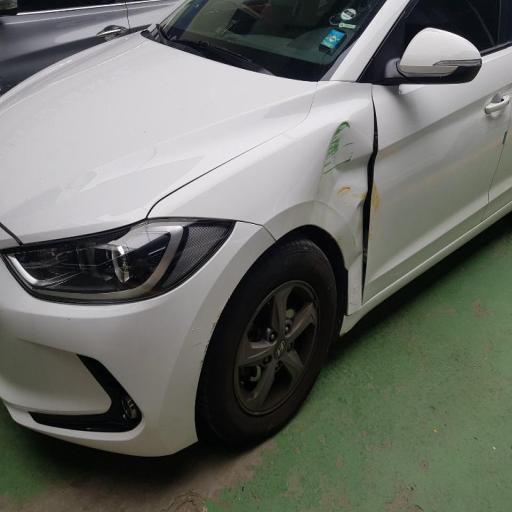broken: (290, 77, 412, 292)
